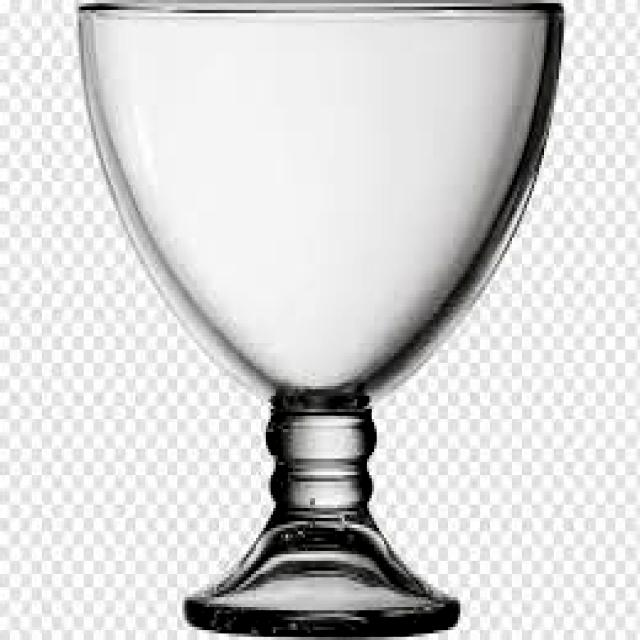Glass: (71, 0, 569, 640)
